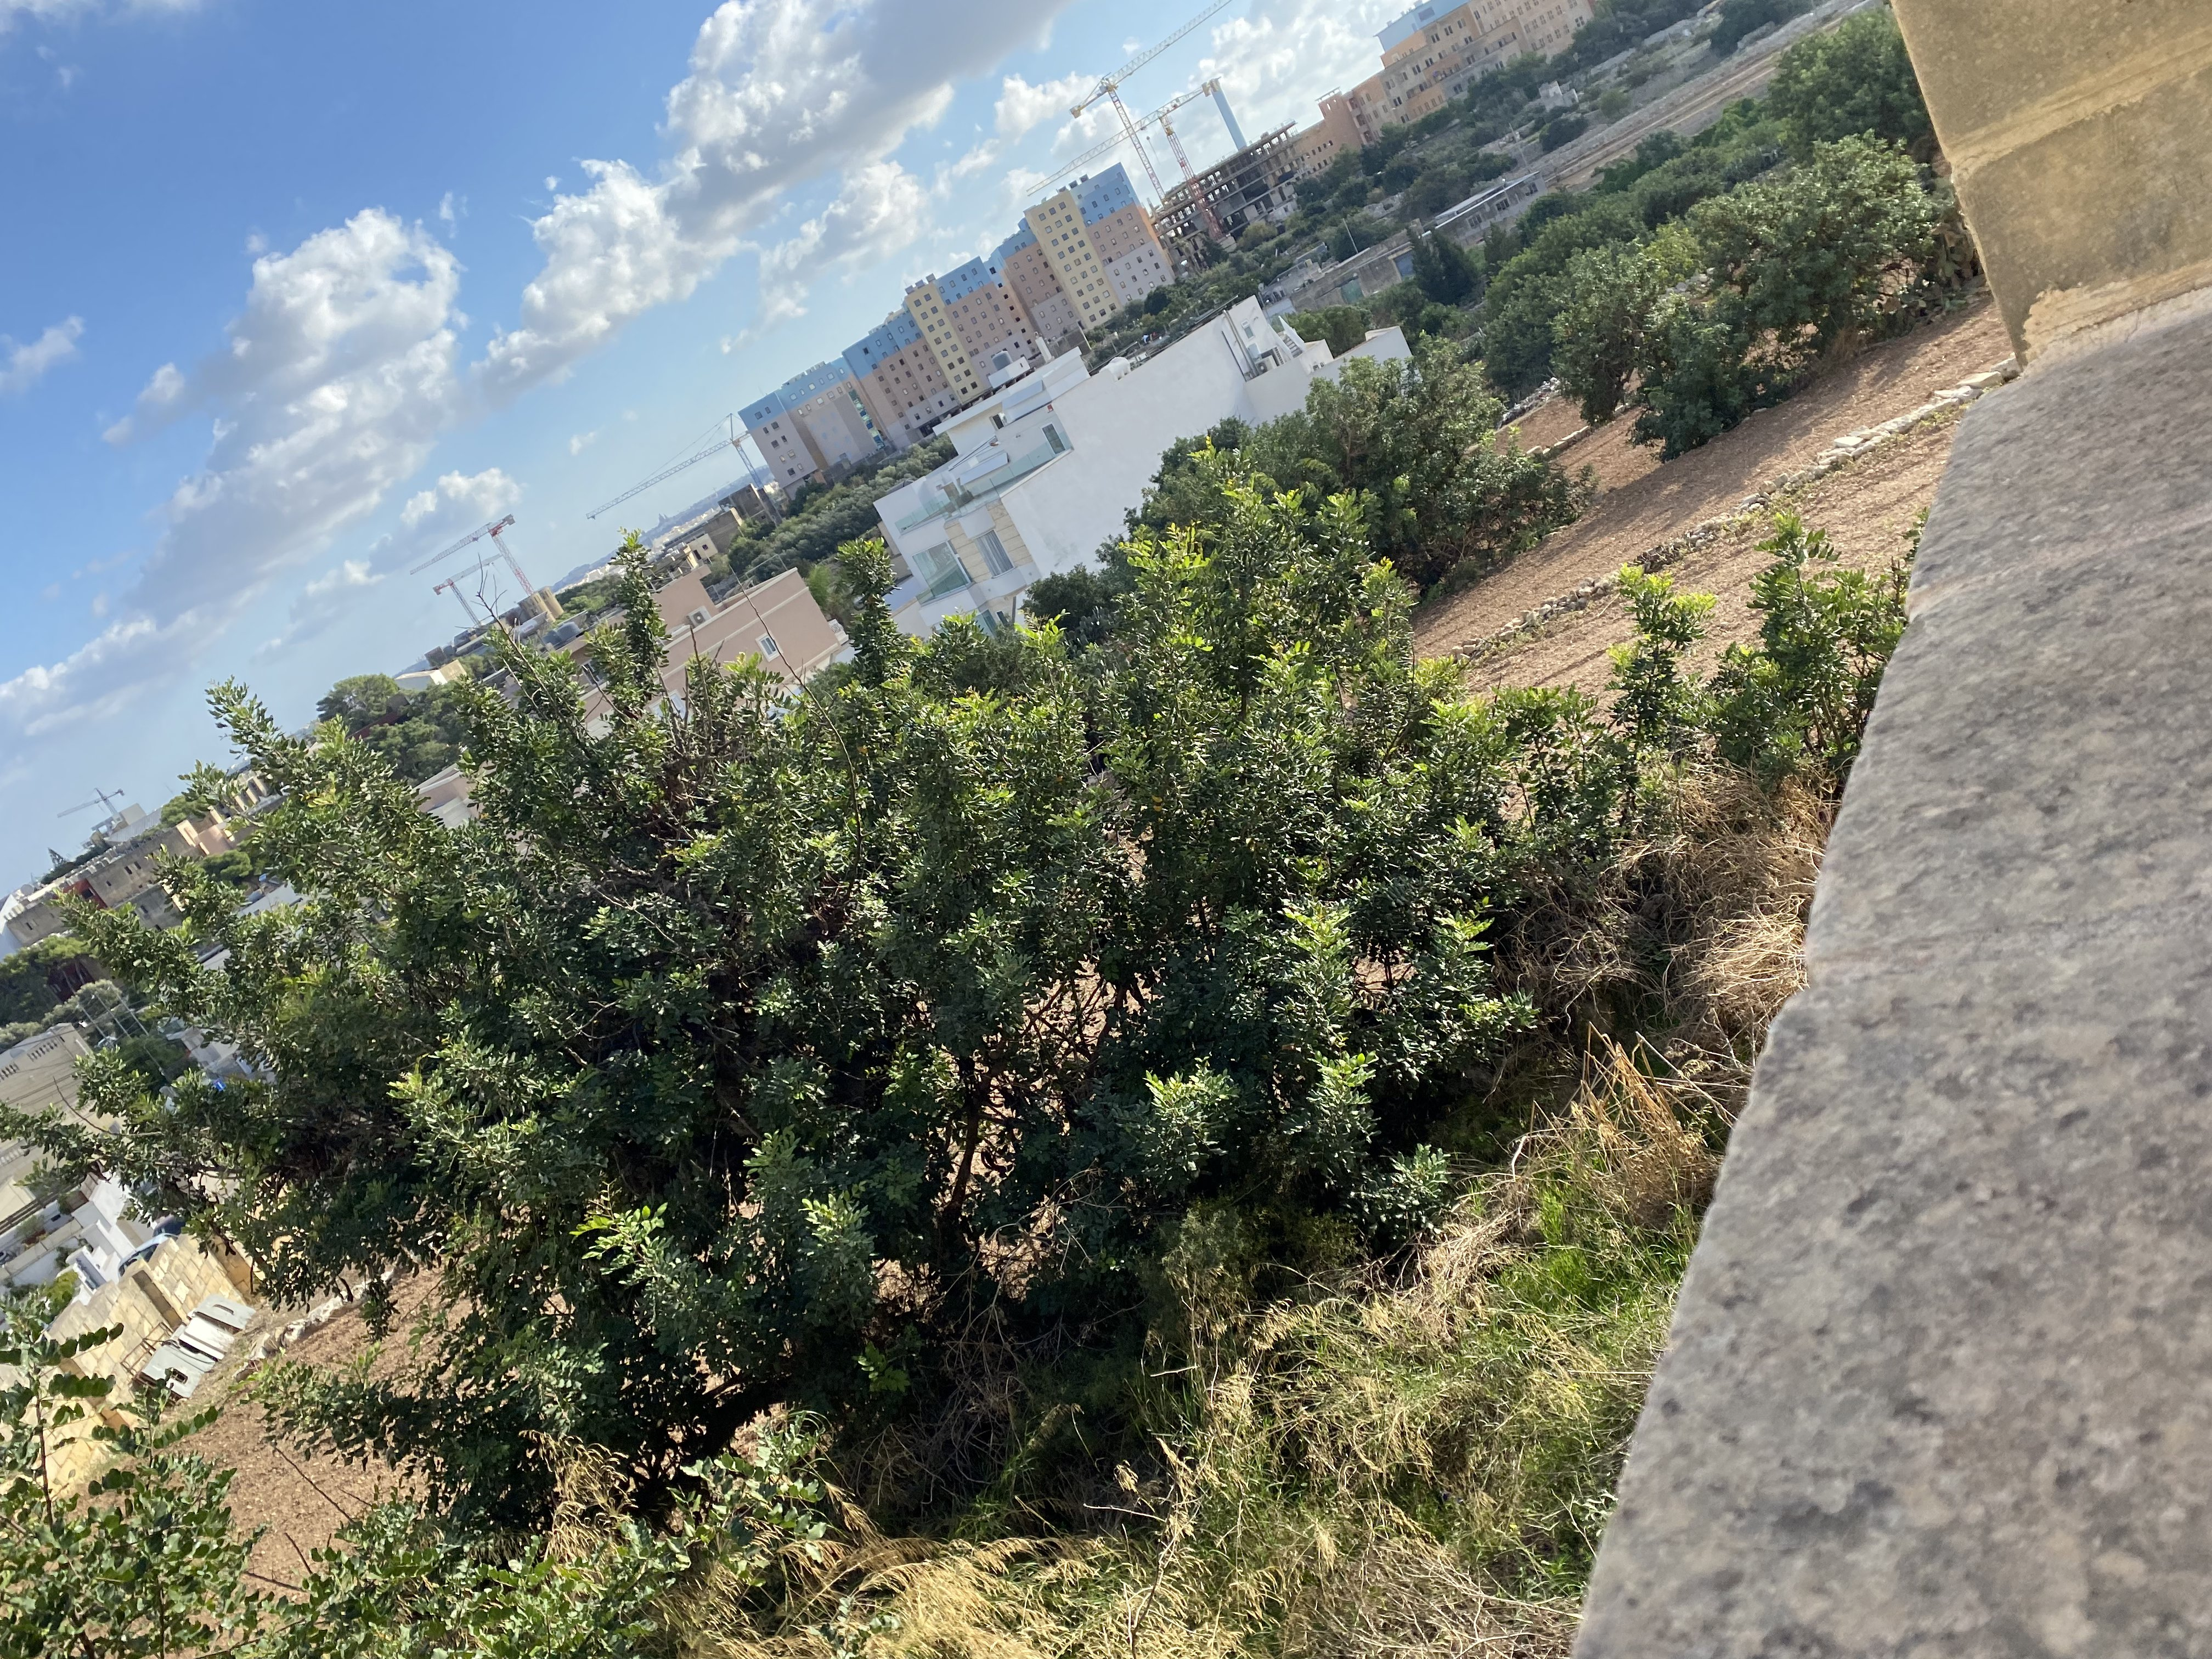crane: (587, 422, 759, 530), (374, 493, 542, 599)
